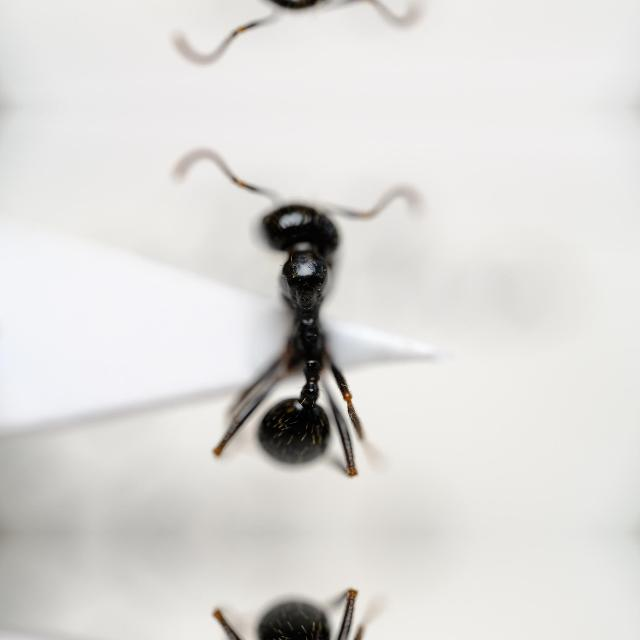Messor: (189, 163, 385, 485)
